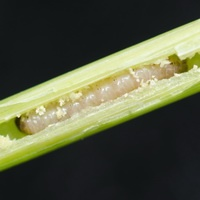insect: (0, 93, 199, 199), (16, 54, 187, 133)
